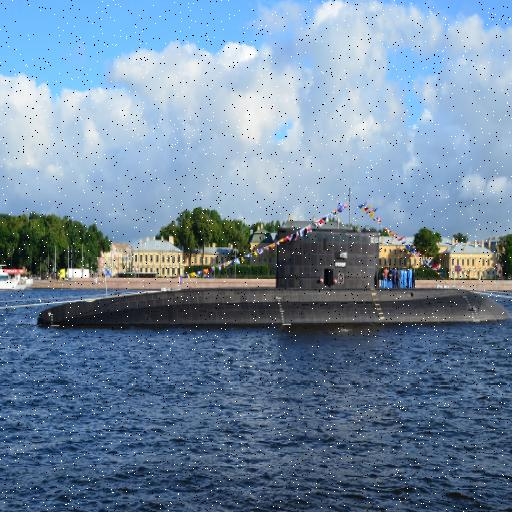submarine: (36, 223, 512, 333)
